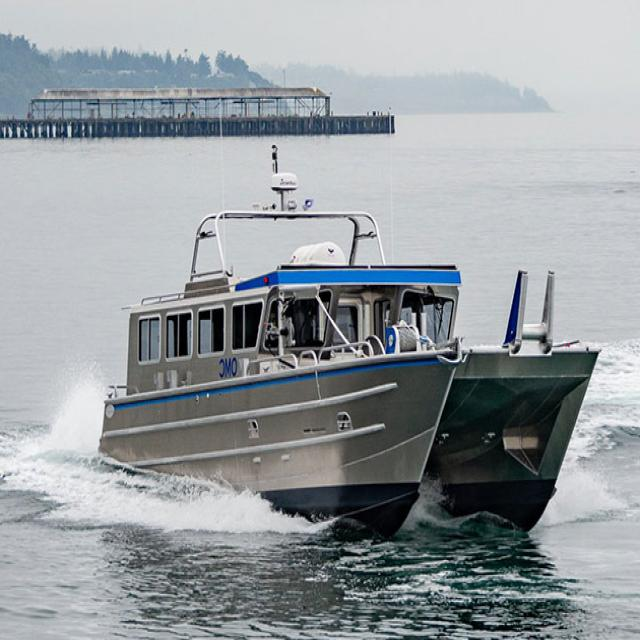houseboat: (109, 182, 596, 539)
